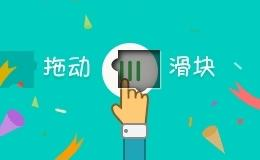target: (96, 31, 138, 69)
